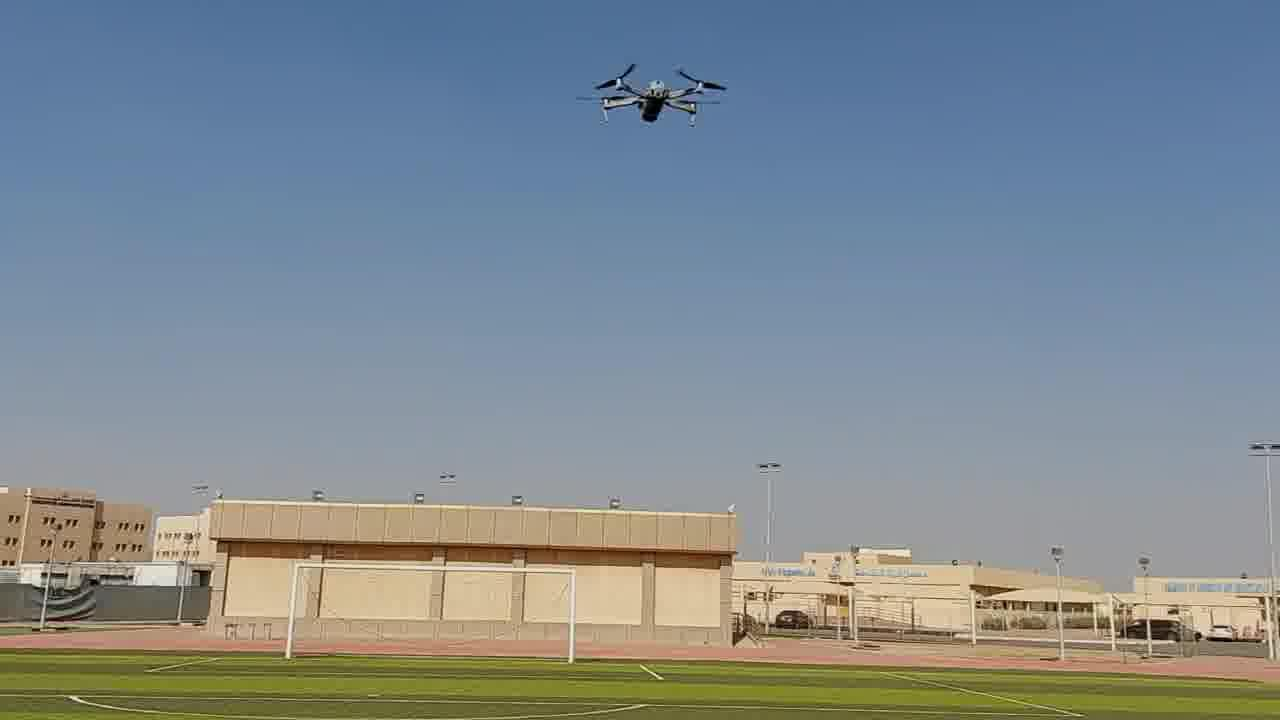drone: (575, 60, 732, 128)
